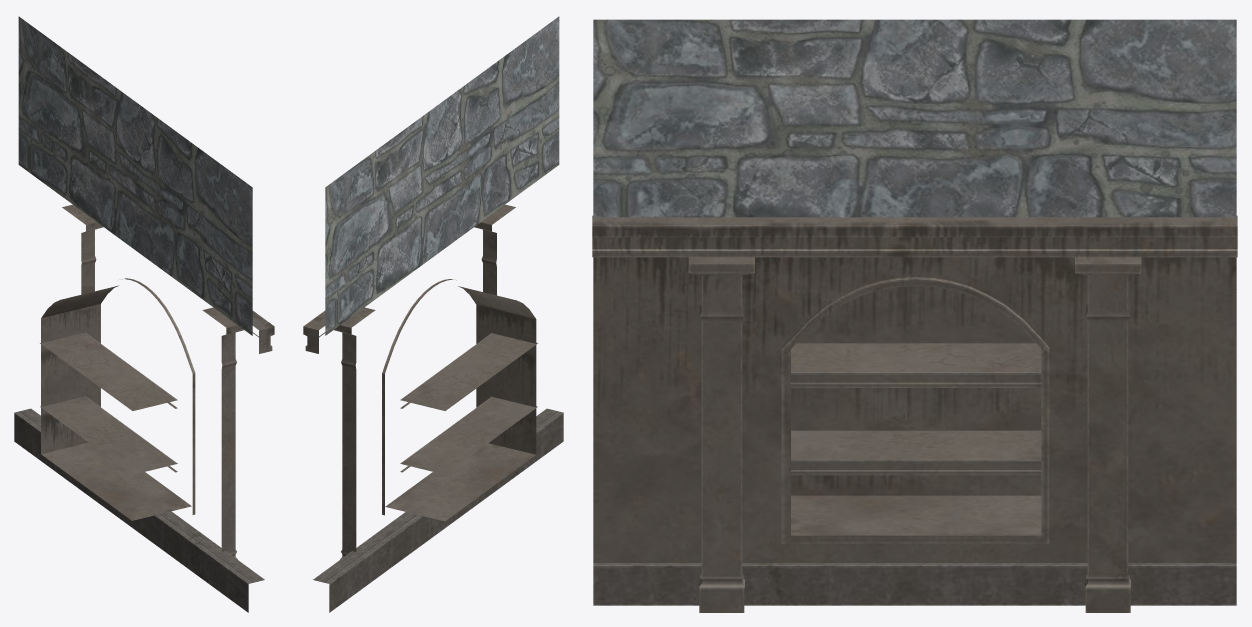
The model's file is SM_Dungeon_Wall_Decorative_A.glb.
The picture shows the model from 3 angles, left to right: view 1: azimuth 30°, elevation 25°; view 2: azimuth 150°, elevation 25°; view 3: azimuth 270°, elevation 25°; orthographic projection. The views are drawn at different scales.
Parts seen in each view (by area): view 1: SM_Dungeon_Wall_Decorative_A; view 2: SM_Dungeon_Wall_Decorative_A; view 3: SM_Dungeon_Wall_Decorative_A.
Part boxes in pixels (left/top/right/bottom): SM_Dungeon_Wall_Decorative_A: left=14, top=16, right=274, bottom=612; SM_Dungeon_Wall_Decorative_A: left=303, top=16, right=563, bottom=612; SM_Dungeon_Wall_Decorative_A: left=592, top=19, right=1237, bottom=612.
Bounding box in the file's own units: 1.16 × 6 × 6.02.
Materials: 3 (3 with a texture image).
